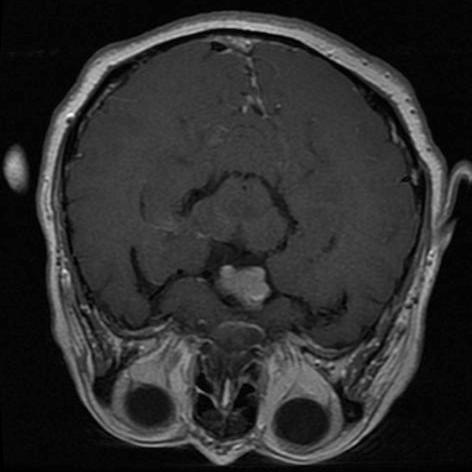Tumour-Pituitary: (210, 257, 280, 313)
